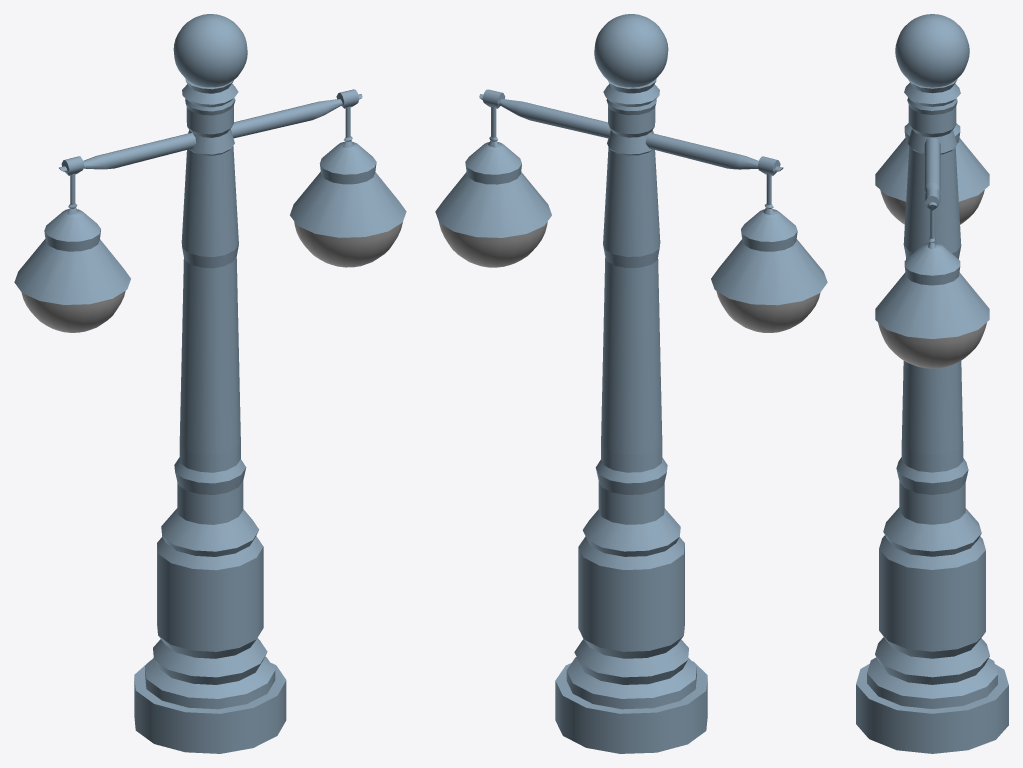
Rendered from newlamplighter.fbx.
3 views of the same model, side by side, from view 1: azimuth 30°, elevation 25°; view 2: azimuth 150°, elevation 25°; view 3: azimuth 270°, elevation 25° (orthographic).
Parts seen in each view (by area): view 1: pCylinder1, pCone1, pCone2, pSphere1, pSphere2, pCylinder3, pCylinder2, pSphere3; view 2: pCylinder1, pCone1, pCone2, pSphere1, pSphere2, pCylinder3, pCylinder2, pSphere3; view 3: pCylinder1, pCone1, pSphere1, pCone2, pSphere2, pCylinder2, pSphere3.
Part boxes in pixels (x1,y1,x2,y2): pCylinder1: (134, 78, 286, 753); pCone1: (290, 141, 406, 237); pCone2: (14, 209, 130, 304); pSphere1: (173, 14, 247, 87); pSphere2: (294, 222, 402, 267); pCylinder3: (59, 133, 196, 214); pCylinder2: (231, 89, 362, 147); pSphere3: (21, 291, 125, 332); pCylinder1: (555, 78, 707, 753); pCone1: (435, 142, 551, 237); pCone2: (711, 209, 827, 305); pSphere1: (594, 14, 668, 87); pSphere2: (439, 222, 547, 267); pCylinder3: (645, 133, 783, 214); pCylinder2: (479, 89, 610, 147); pSphere3: (716, 291, 820, 332); pCylinder1: (856, 79, 1008, 753); pCone1: (875, 242, 989, 338); pSphere1: (895, 14, 969, 87); pCone2: (875, 123, 989, 201); pSphere2: (878, 322, 986, 368); pCylinder2: (924, 137, 940, 249); pSphere3: (880, 190, 984, 224).
Size of the model in its own units: 226 by 404 by 79.42.
